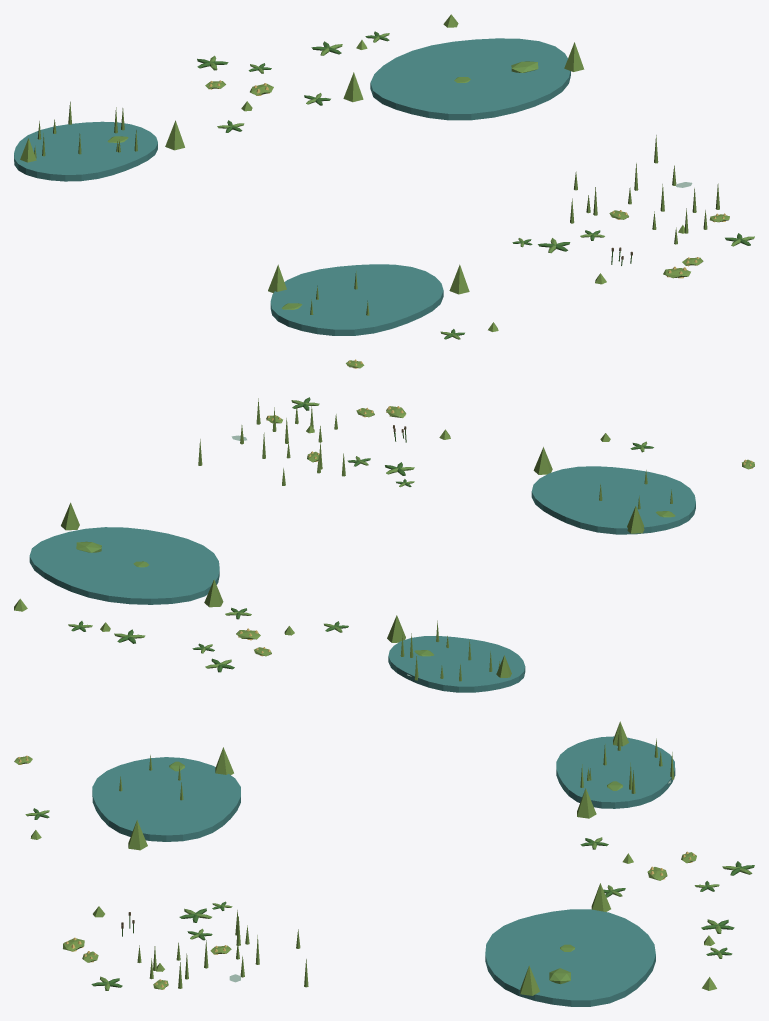
Rendered from wetland_pools_nonsolid_props.fbx.
3 renders of one model, top to bottom at view 1: azimuth 30°, elevation 25°; view 2: azimuth 150°, elevation 25°; view 3: azimuth 270°, elevation 25°, orthographic. The views are drawn at different scales.
Parts seen in each view (by area): view 1: chunk_wetland_pools__PropsNonSolid; view 2: chunk_wetland_pools__PropsNonSolid; view 3: chunk_wetland_pools__PropsNonSolid.
Part boxes in pixels (x1,y1,x2,y2): chunk_wetland_pools__PropsNonSolid: [14, 14, 754, 368]; chunk_wetland_pools__PropsNonSolid: [14, 397, 754, 692]; chunk_wetland_pools__PropsNonSolid: [14, 721, 754, 1006].
Bounding box in the file's own units: 170 × 13.15 × 203.
